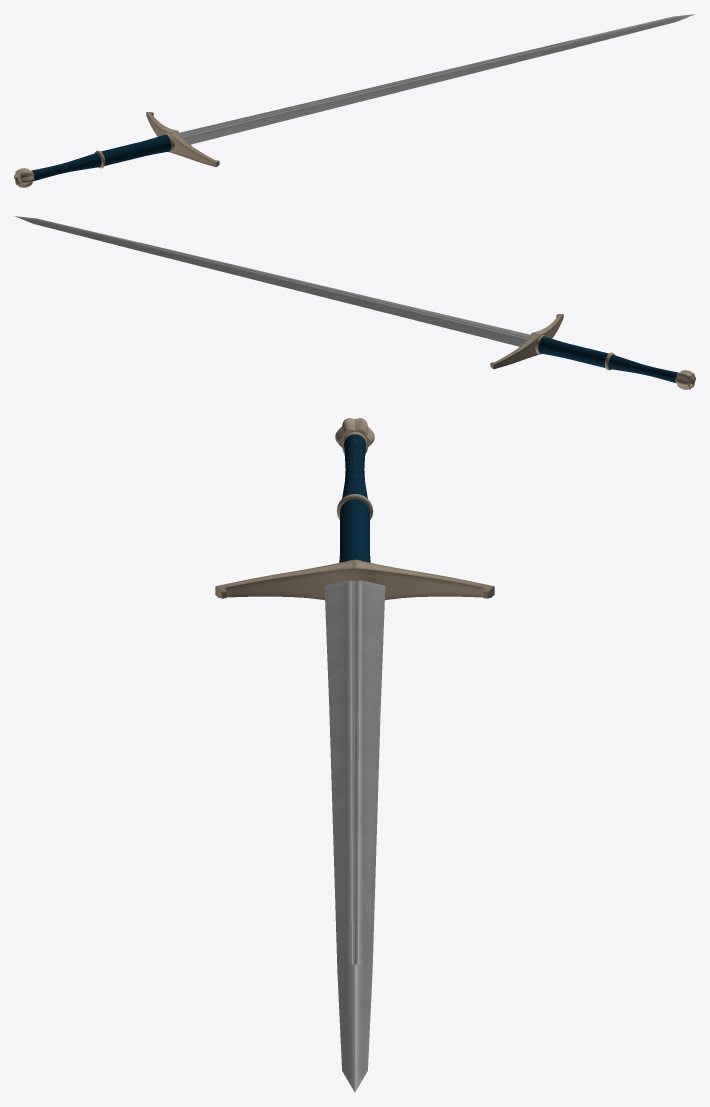
Rendered from 15th_century_long_sword.obj.
The picture shows the model from 3 angles, top to bottom: view 1: azimuth 30°, elevation 25°; view 2: azimuth 150°, elevation 25°; view 3: azimuth 270°, elevation 25°; orthographic projection. The views are drawn at different scales.
Visible parts, largest first — view 1: obj1; view 2: obj1; view 3: obj1.
Part boxes in pixels (bbox=[...]): obj1: bbox=[14, 14, 695, 187]; obj1: bbox=[14, 216, 695, 389]; obj1: bbox=[215, 418, 494, 1092].
Bounding box in the file's own units: 1.32 × 0.0357 × 0.2358.
1 material, 1 textured.
